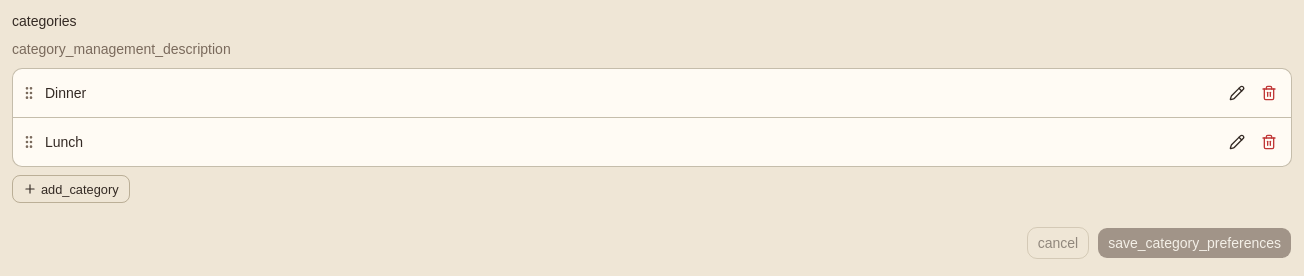
it: CategoriesTab editing › renames a category and saves the rename
Later steps or results of the test are not shown.
Expected: the text "Dinner" is shown, [45,83,86,103]
Click the button named "edit_category_name" in the row of "Dinner": (1237,93) [1223,79,1251,107]
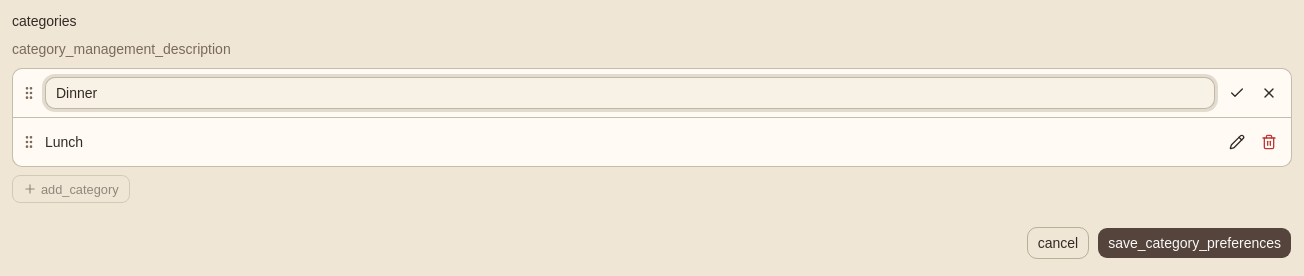
Result: the field with placeholder "category_name" holds "Dinner"
Replace the text in the field with placeholder "category_name" with "  Supper ": (630,93) [45,77,1215,109]
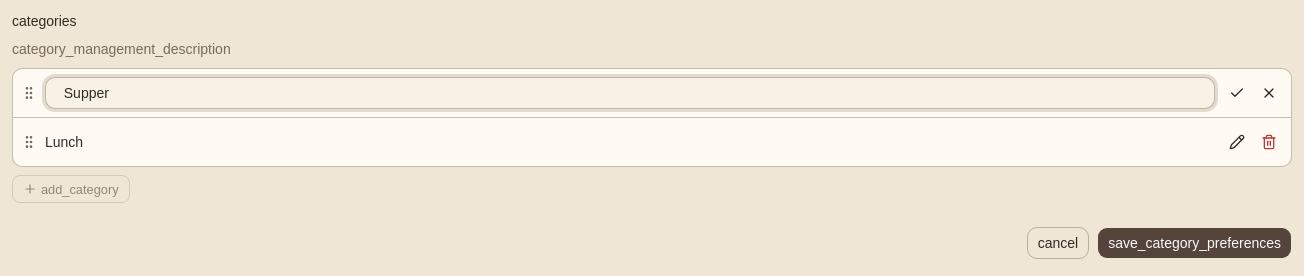
Press Enter in the field with placeholder "category_name", box [45,77,1215,109]
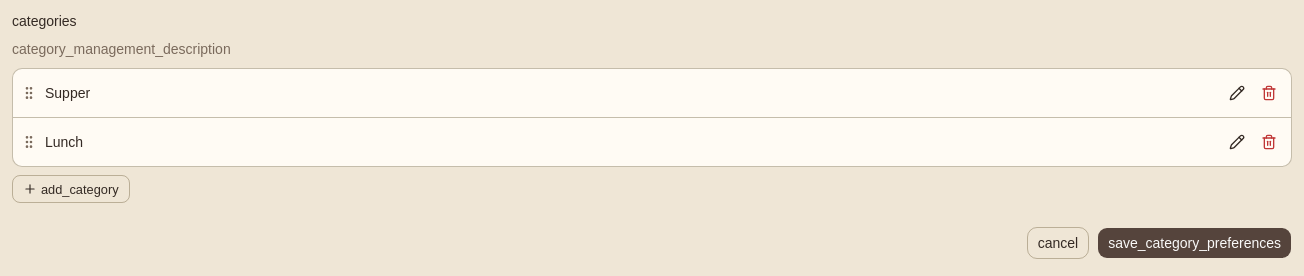
Result: the text "Supper" is shown at [45,83,90,103]
